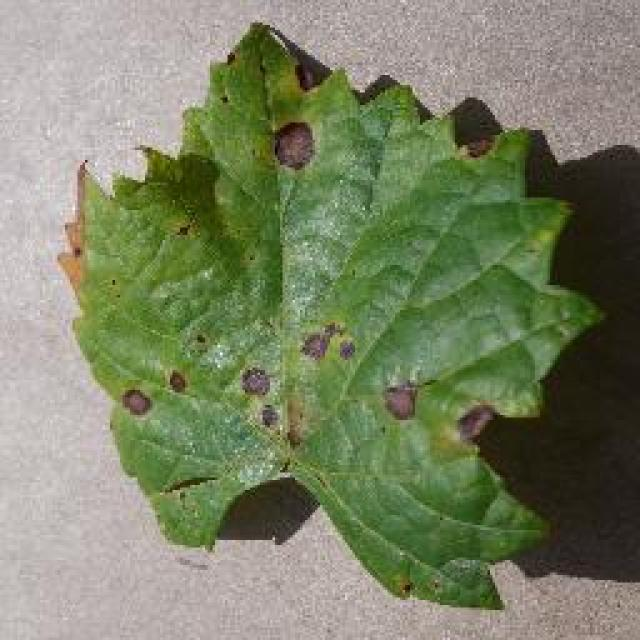Black_rot: (9, 7, 640, 590)
